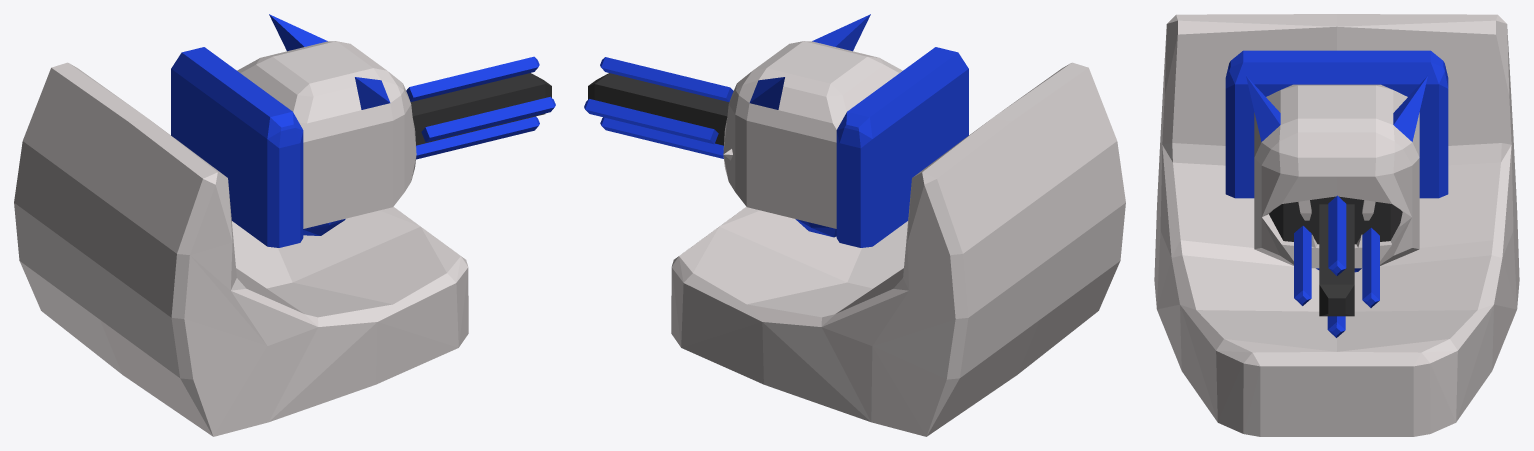
File: torreta_berserker.fbx
3 renders of one model, left to right at view 1: azimuth 30°, elevation 25°; view 2: azimuth 150°, elevation 25°; view 3: azimuth 270°, elevation 25°, orthographic. The views are drawn at different scales.
Parts seen in each view (by area): view 1: Plataforma.001, Cuerpo.001, Cañon central.003, Cañon central.002; view 2: Plataforma.001, Cuerpo.001, Cañon central.003, Cañon central.002; view 3: Plataforma.001, Cuerpo.001, Cañon central.003, Cañon central.002.
Boxes of the visible parts, box(x1,y1,x2,y2) form: Plataforma.001: box(14, 62, 468, 436); Cuerpo.001: box(171, 14, 416, 247); Cañon central.003: box(406, 56, 555, 159); Cañon central.002: box(410, 73, 551, 145); Plataforma.001: box(671, 62, 1125, 436); Cuerpo.001: box(723, 14, 968, 247); Cañon central.003: box(584, 57, 733, 158); Cañon central.002: box(588, 73, 729, 145); Plataforma.001: box(1154, 14, 1519, 436); Cuerpo.001: box(1225, 50, 1448, 268); Cañon central.003: box(1294, 195, 1379, 337); Cañon central.002: box(1319, 204, 1354, 316).
Bounding box in the file's own units: 810 × 482 × 531.
